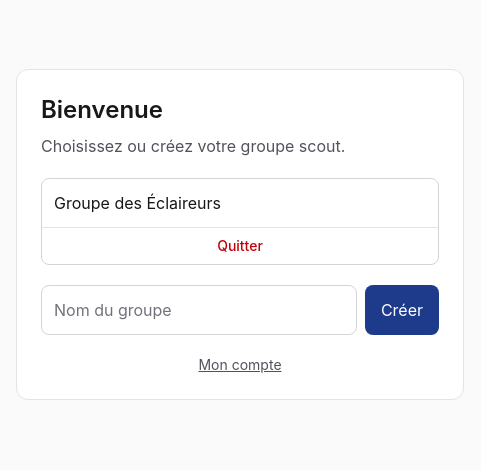
Test: Page principale › Quitter un groupe › affiche l’erreur renvoyée par l’API sans fermer la confirmation
Click the button "Quitter": (240, 245) [42,226,438,264]
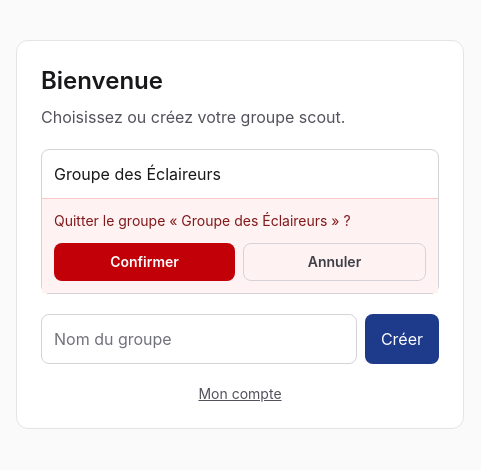
Click the button "Confirmer": (144, 262) [54,242,235,280]
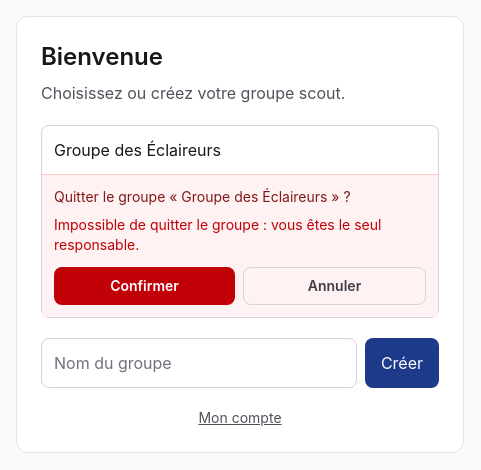
Now the text "Quitter le groupe « Groupe des Éclaireurs » ?" is shown, box [54,188,351,204]
Now the text "Impossible de quitter le groupe : vous êtes le seul responsable." is shown, box [54,214,426,254]
